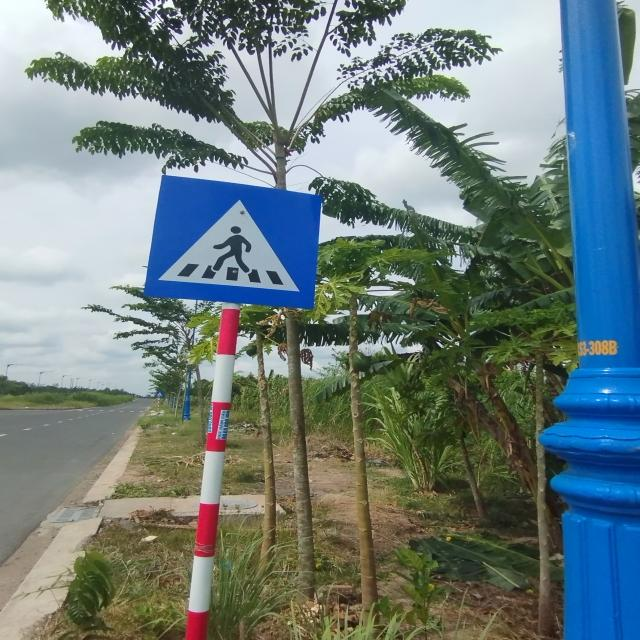Giao_Nhau_Duong_Uu_Tien: (144, 175, 320, 311)
